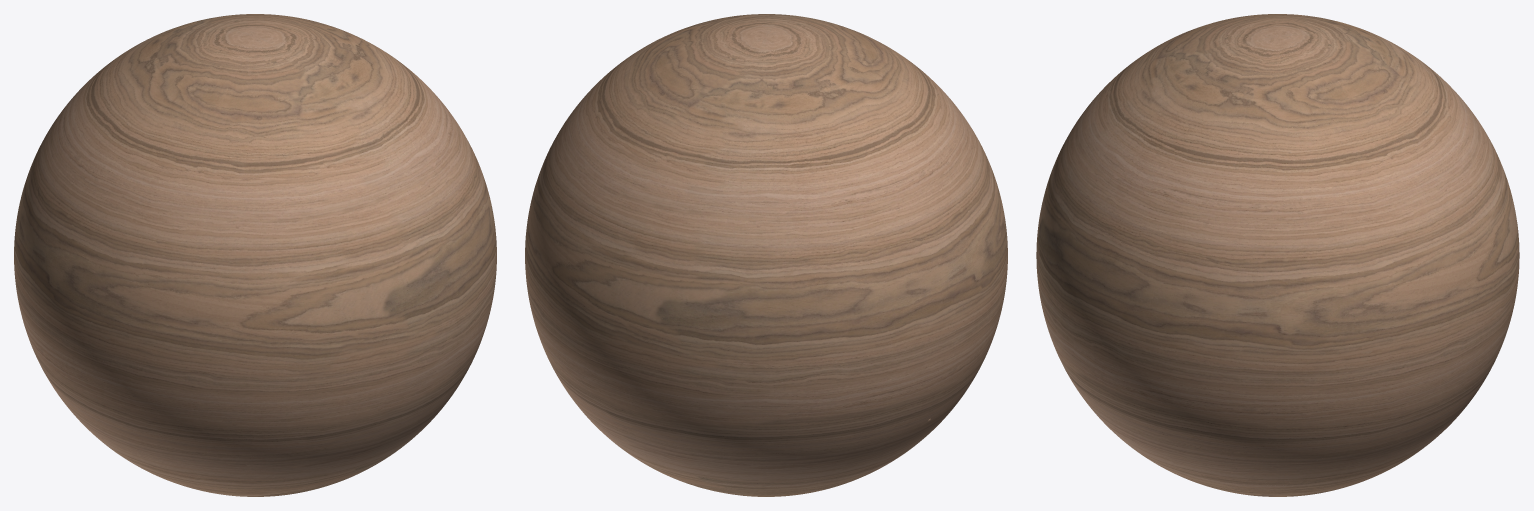
File: walnut_veneer_02_1k.gltf
The picture shows the model from 3 angles, left to right: view 1: azimuth 30°, elevation 25°; view 2: azimuth 150°, elevation 25°; view 3: azimuth 270°, elevation 25°; orthographic projection.
Visible parts, largest first — view 1: sphere_gltf; view 2: sphere_gltf; view 3: sphere_gltf.
Part boxes in pixels (left/top/right/bottom): sphere_gltf: left=14, top=14, right=496, bottom=496; sphere_gltf: left=525, top=14, right=1007, bottom=496; sphere_gltf: left=1036, top=14, right=1519, bottom=496.
Size of the model in its own units: 1 by 1 by 1.
1 material, 1 textured.
